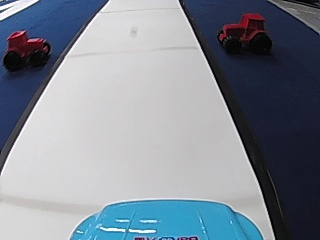tractor: (215, 10, 272, 56), (1, 28, 50, 71)
